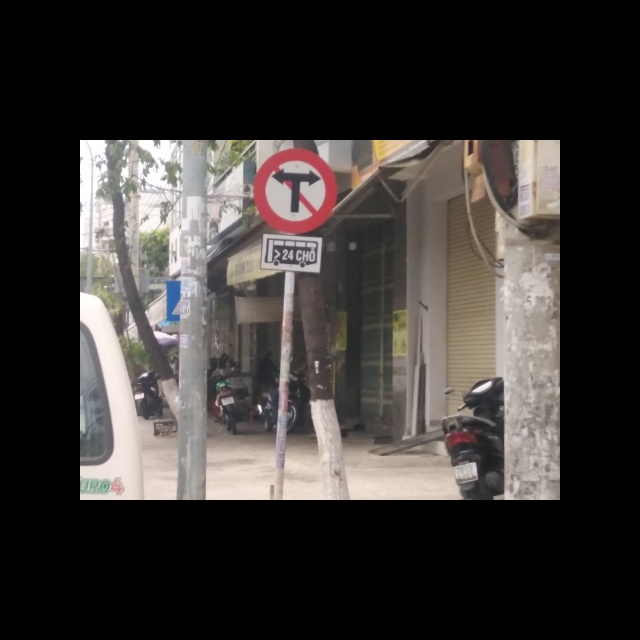Cấm rẽ trái và rẽ phải: (251, 148, 338, 231)
